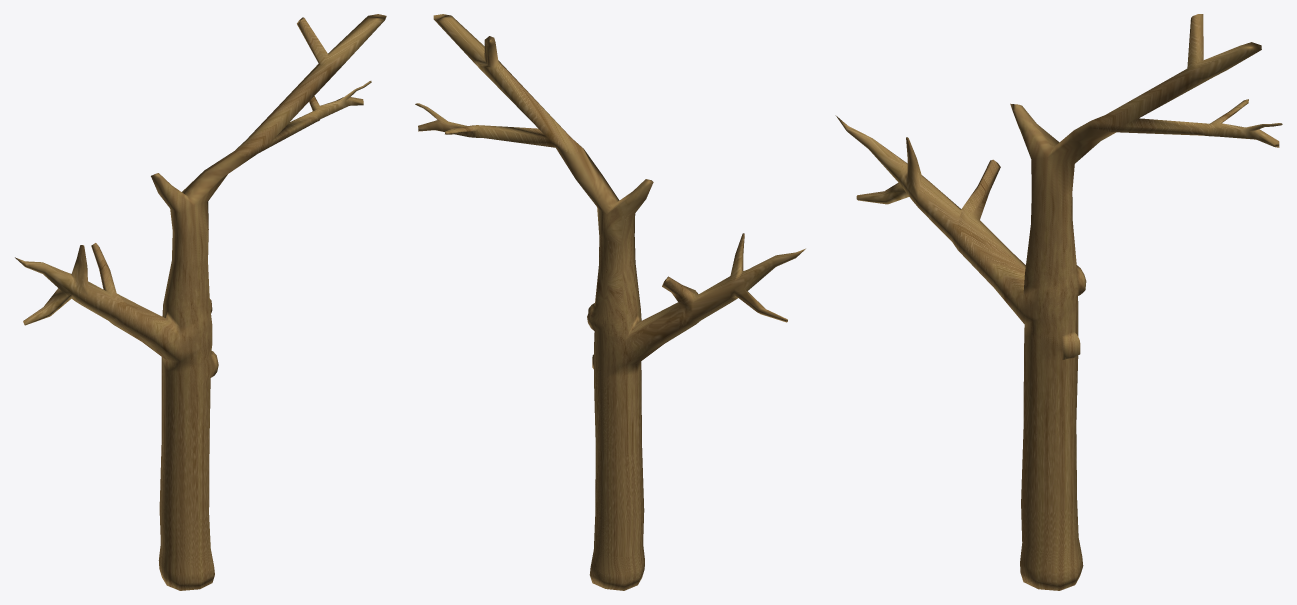
File: kareki.fbx
The picture shows the model from 3 angles, left to right: view 1: azimuth 30°, elevation 25°; view 2: azimuth 150°, elevation 25°; view 3: azimuth 330°, elevation 25°; orthographic projection. The views are drawn at different scales.
Visible parts, largest first — view 1: pCube2; view 2: pCube2; view 3: pCube2.
Part boxes in pixels (x1,y1,x2,y2): pCube2: (15, 14, 386, 590); pCube2: (415, 14, 805, 590); pCube2: (835, 14, 1282, 590).
Size of the model in its own units: 90.36 by 121 by 18.16.
